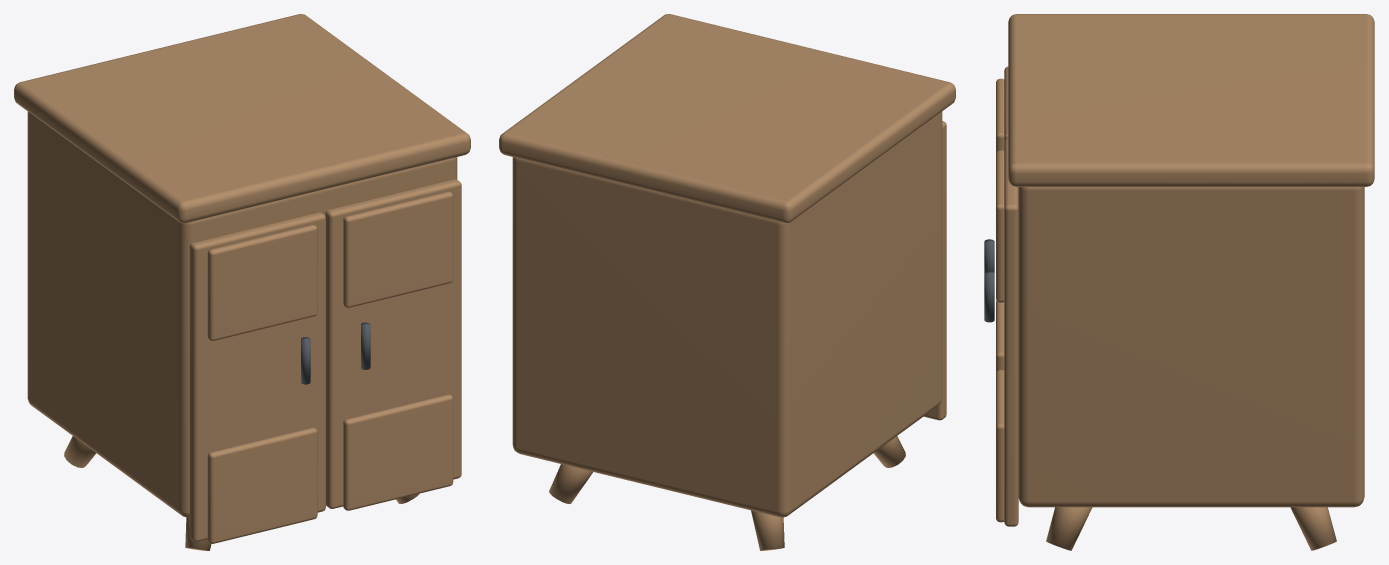
The model's file is atelier-wall-kitchen-cabinet.glb.
3 renders of one model, left to right at view 1: azimuth 30°, elevation 25°; view 2: azimuth 150°, elevation 25°; view 3: azimuth 270°, elevation 25°, orthographic. The views are drawn at different scales.
Visible parts, largest first — view 1: legs.154, metal.113; view 2: legs.154; view 3: legs.154, metal.113.
Part boxes in pixels (box(x1,y1,x2,y2)): legs.154: box(14, 14, 470, 550); metal.113: box(301, 322, 370, 384); legs.154: box(499, 14, 955, 550); legs.154: box(996, 14, 1374, 550); metal.113: box(984, 239, 994, 322).
Bounding box in the file's own units: 0.635 × 0.7793 × 0.6765.
